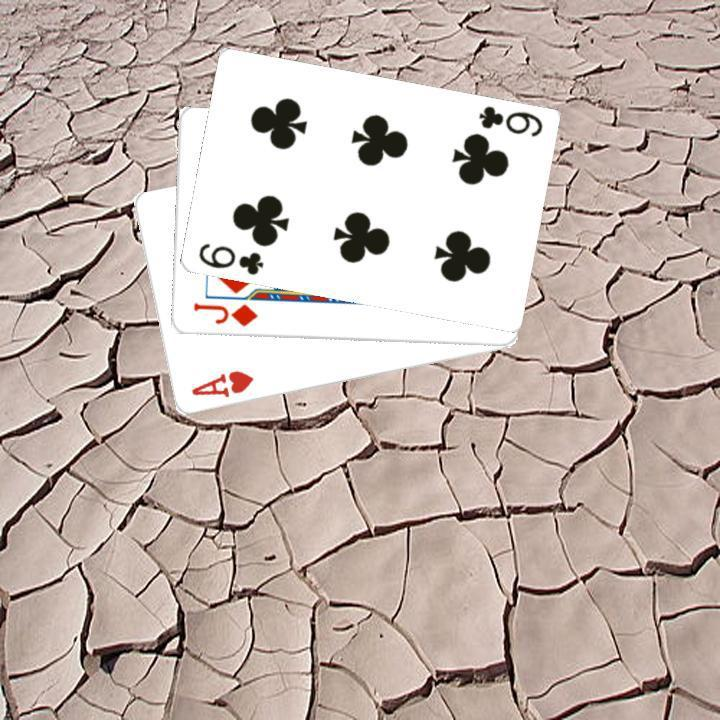6: (193, 239, 265, 278), (473, 102, 544, 139)
A: (187, 367, 255, 400)
J: (189, 298, 260, 329)
